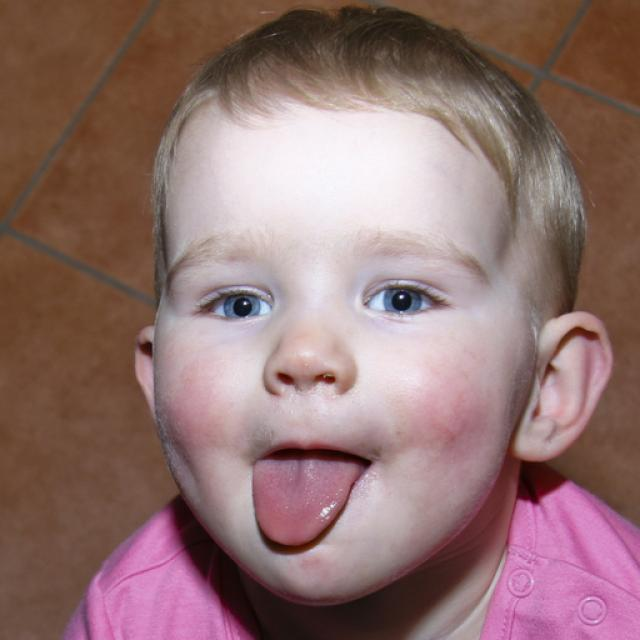surprise: (151, 102, 534, 602)
